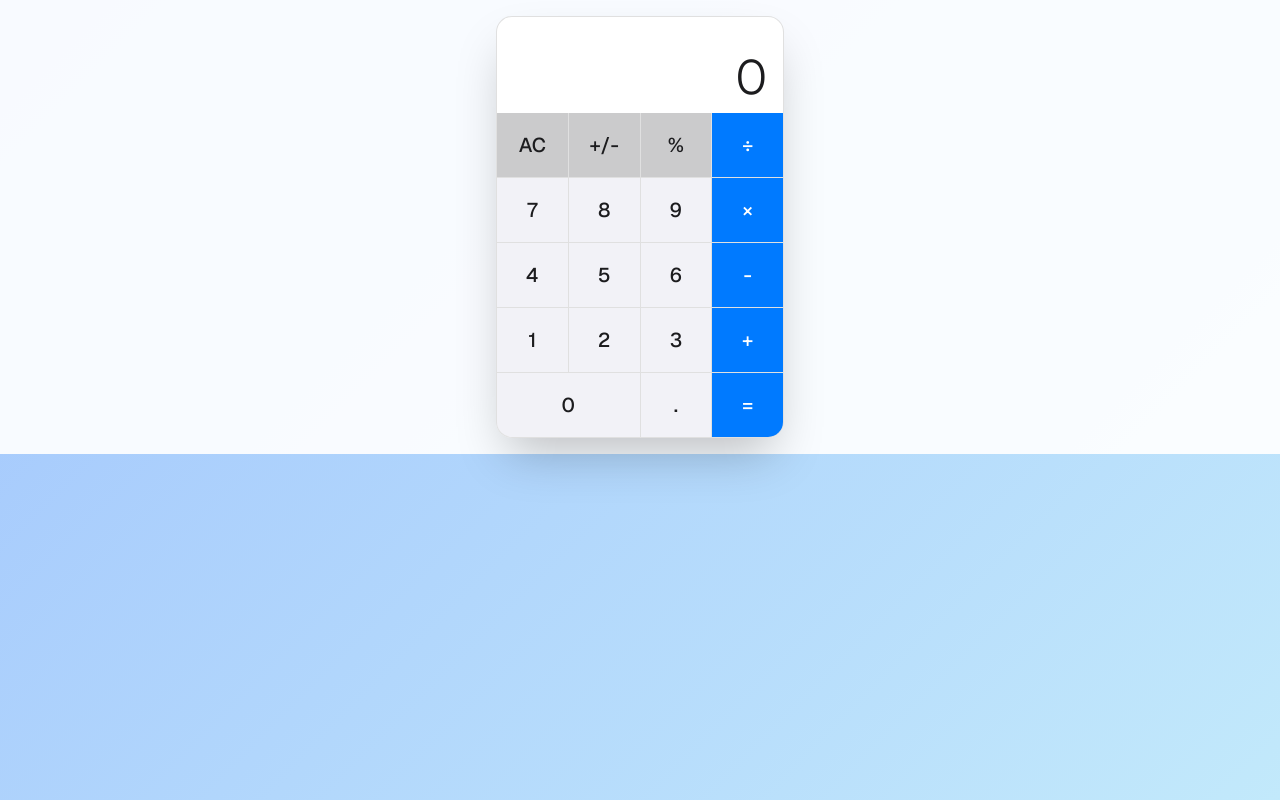
Calculator › converts the current value to a percentage
Click the button with test id "calc-5": click(604, 275) [569,243,640,307]
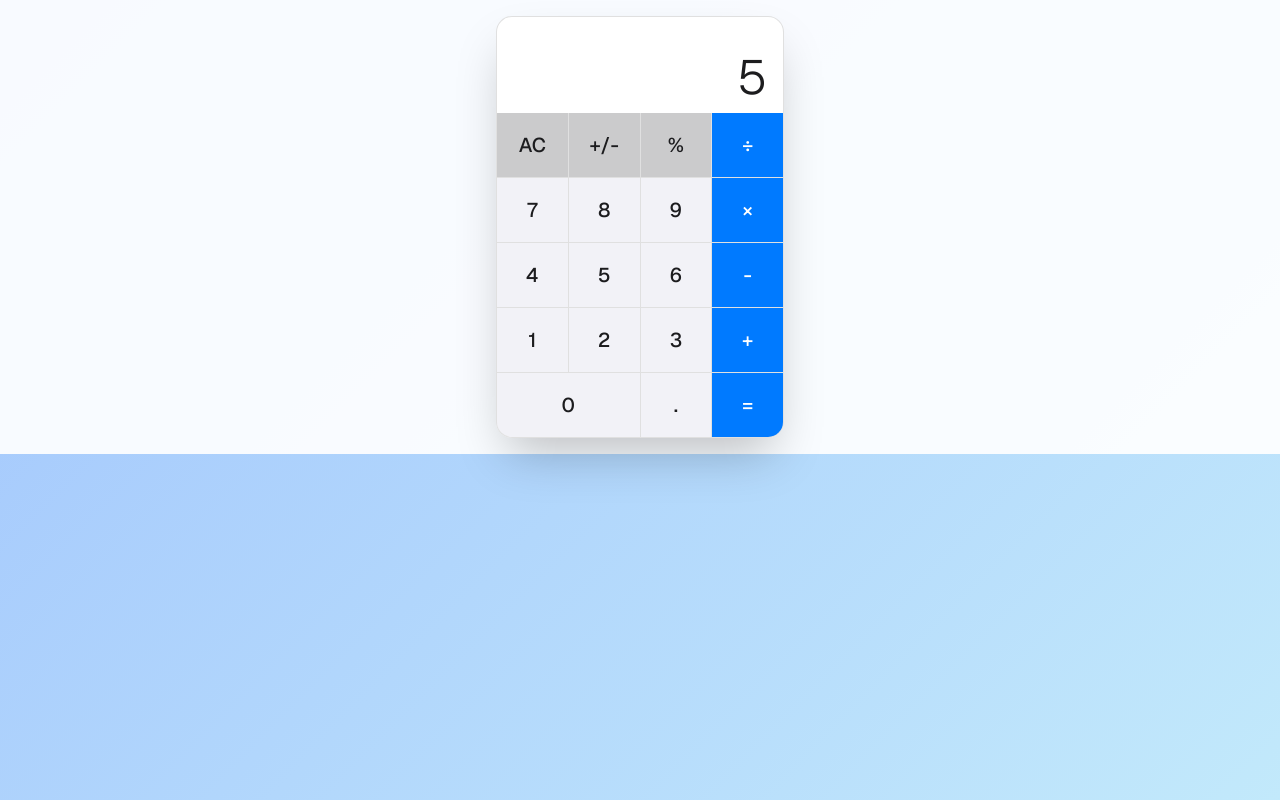
Click the button with test id "calc-0": click(568, 405) [497,373,640,437]
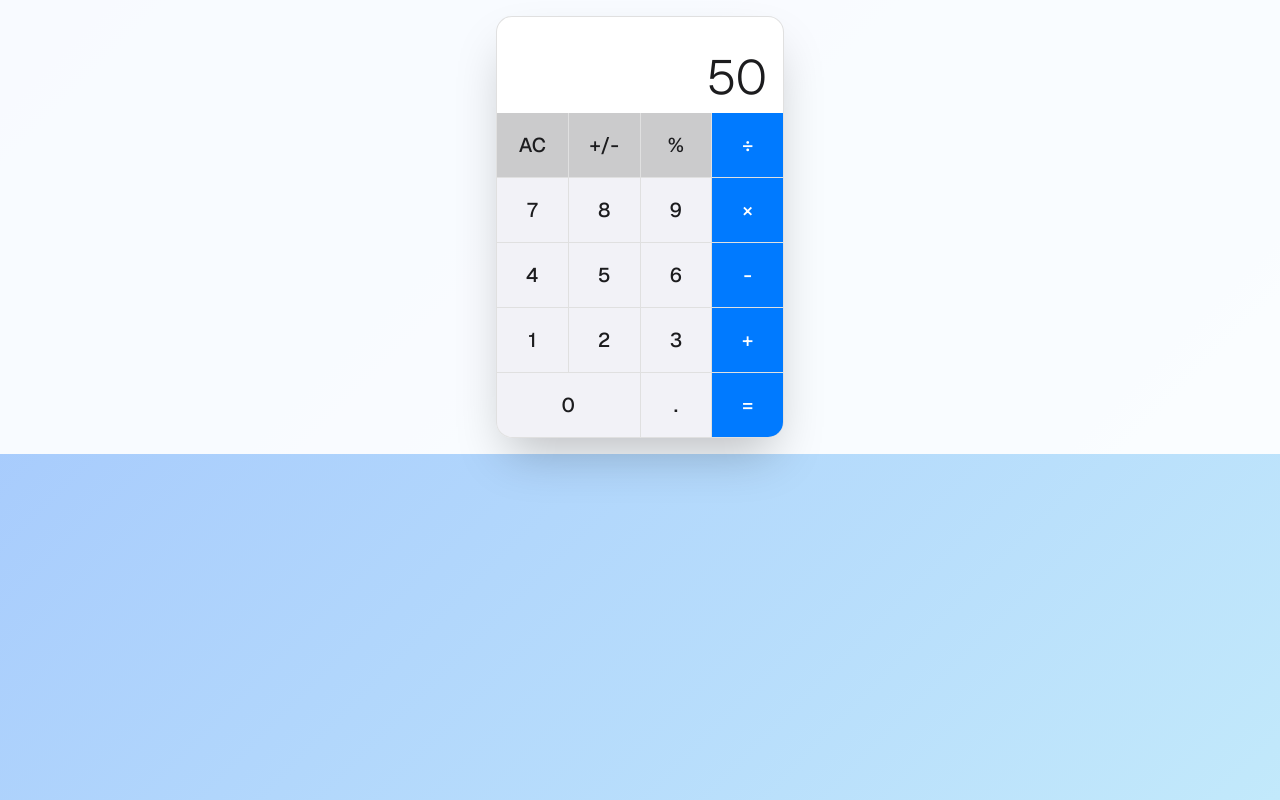
Click the button with test id "calc-percent": click(676, 145) [640,113,711,177]
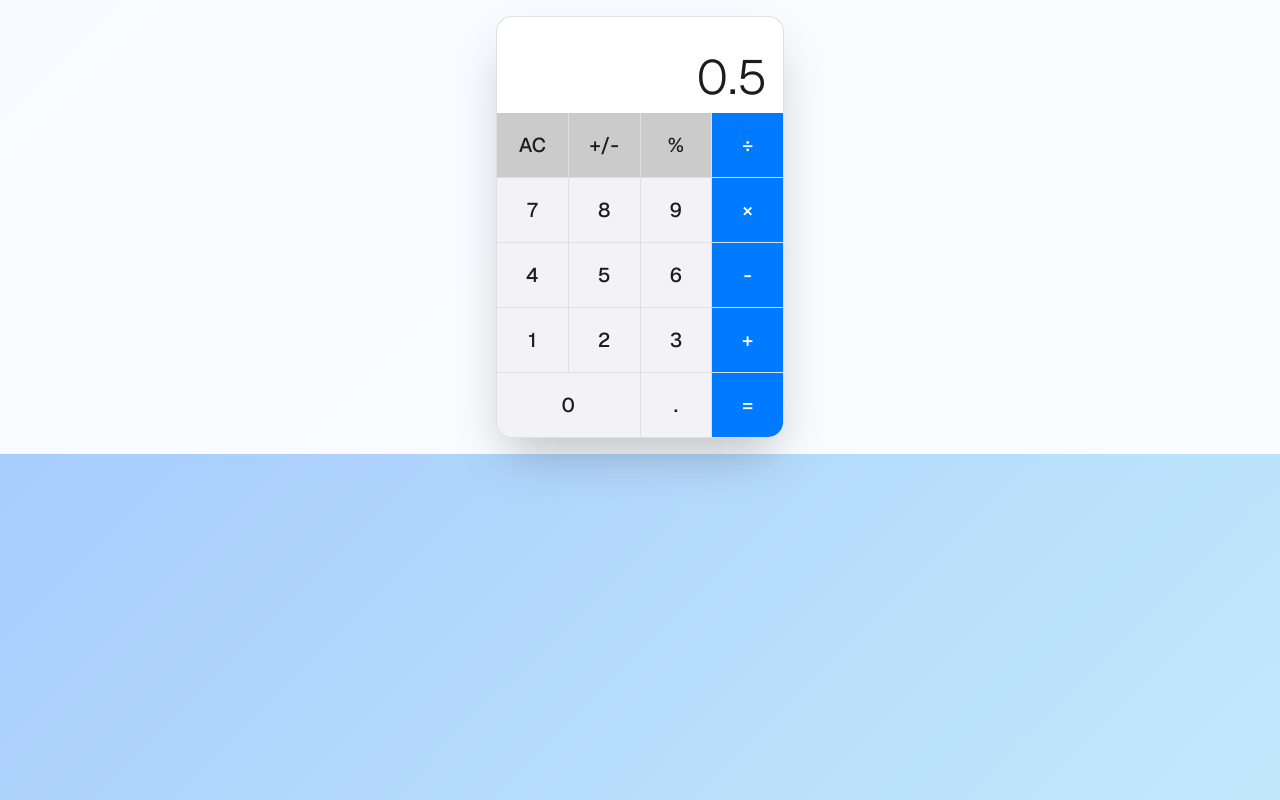
Check: the text with test id "calc-display" reads "0.5", box [697,46,767,108]
